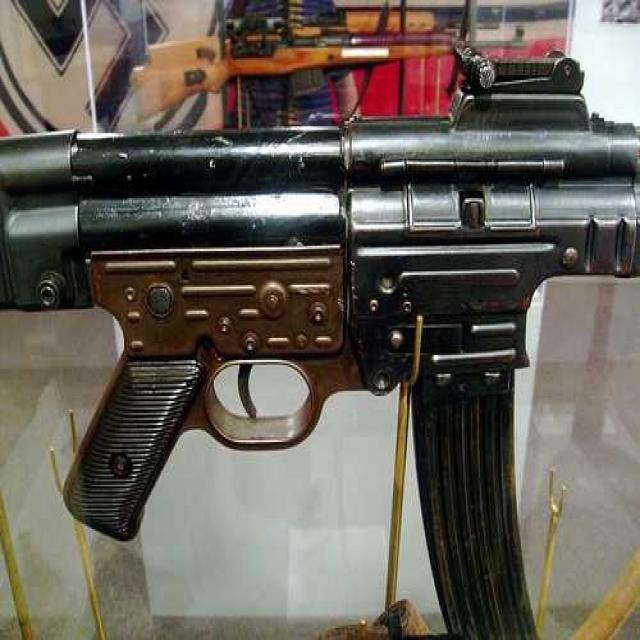heavyweapon: (9, 40, 640, 640)
